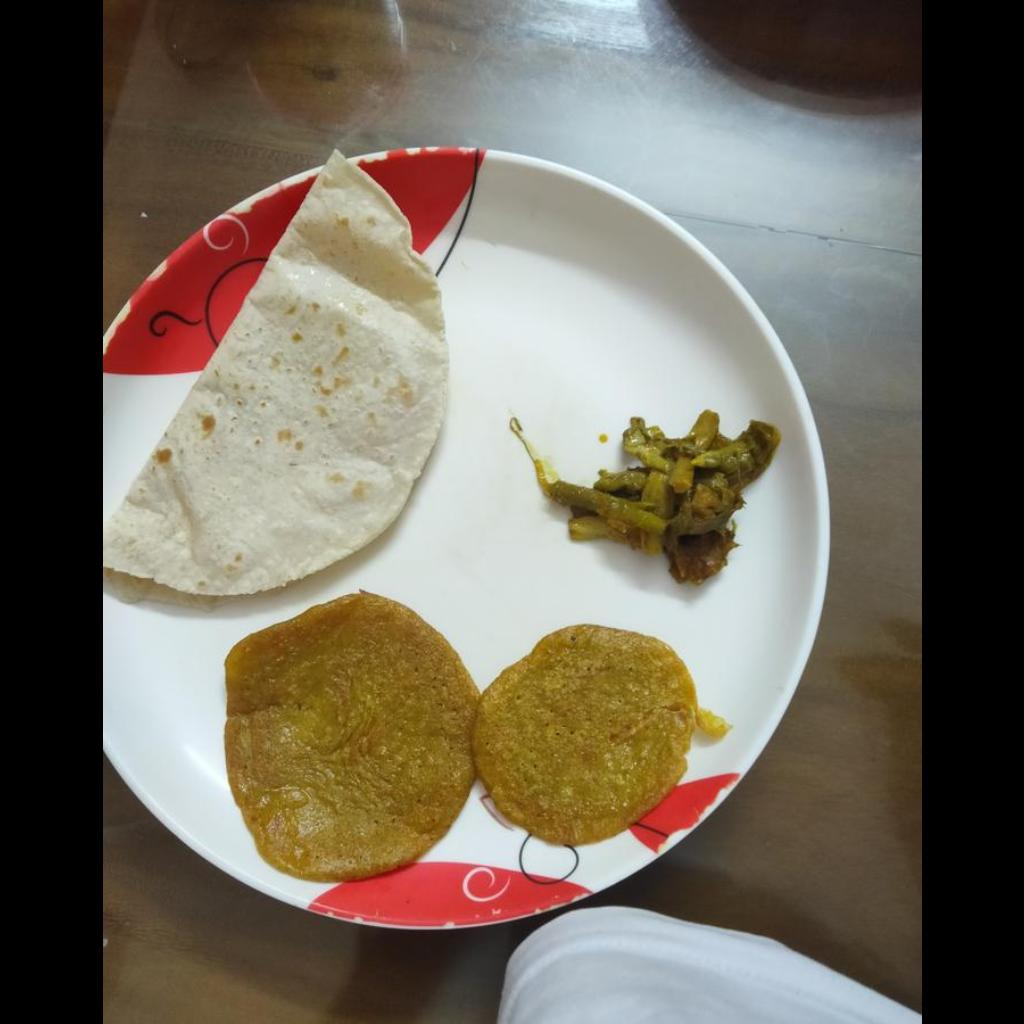ruti: (102, 151, 447, 595)
sweets: (221, 588, 704, 882)
vaji: (541, 412, 775, 578)
